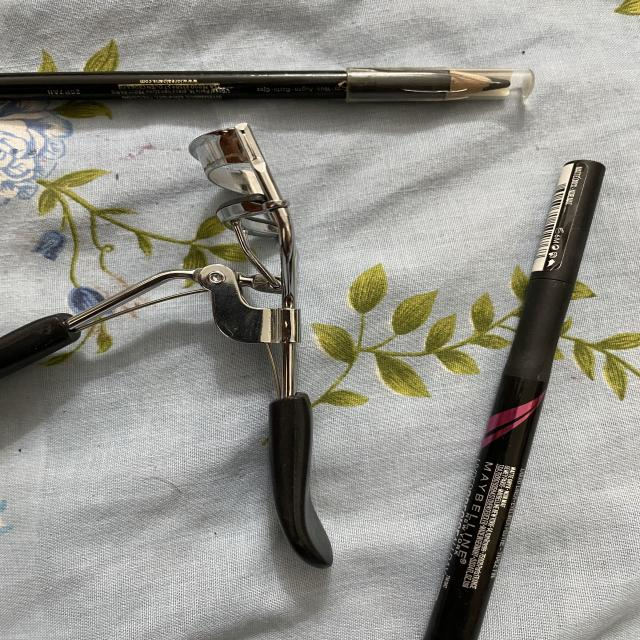eye liner: (402, 145, 623, 640), (0, 55, 551, 116)
eyelash curler: (0, 117, 344, 580)
